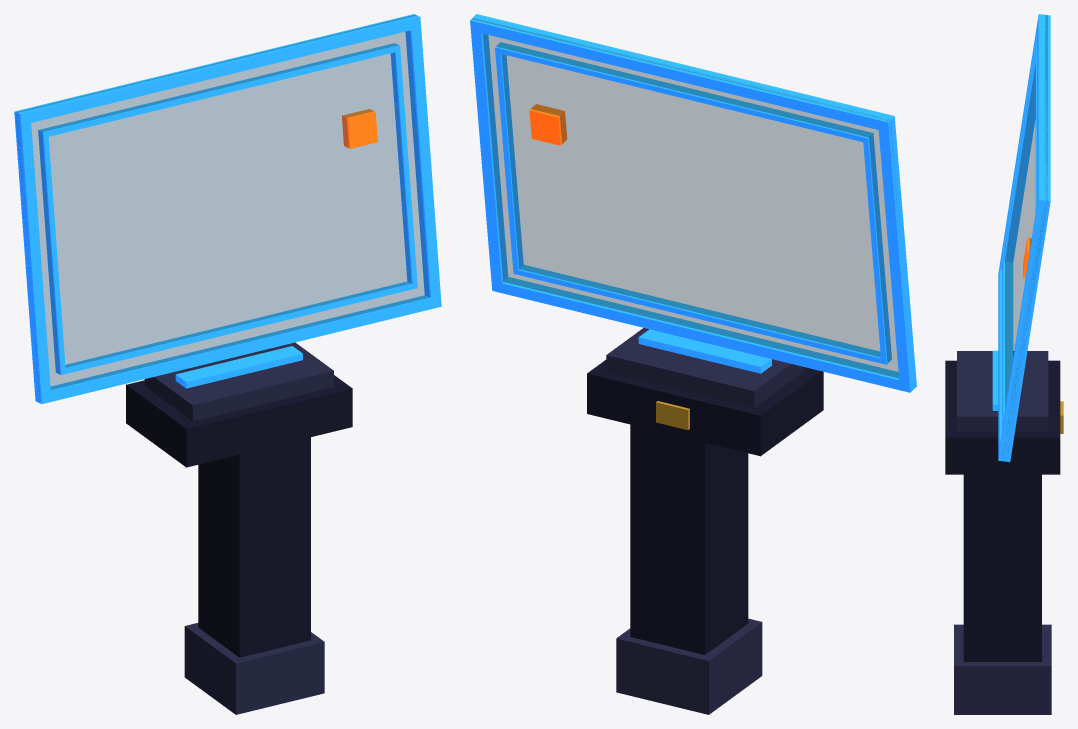
File: holo_tablet.lod1.glb
3 renders of one model, left to right at view 1: azimuth 30°, elevation 25°; view 2: azimuth 150°, elevation 25°; view 3: azimuth 270°, elevation 25°, orthographic. The views are drawn at different scales.
Parts seen in each view (by area): view 1: item.holo_tablet.body; view 2: item.holo_tablet.body; view 3: item.holo_tablet.body.
Boxes of the visible parts, <box> form: item.holo_tablet.body: <box>14,14,441,714</box>; item.holo_tablet.body: <box>470,14,916,714</box>; item.holo_tablet.body: <box>945,14,1063,714</box>.
Size of the model in its own units: 0.4062 by 0.5918 by 0.1094.
